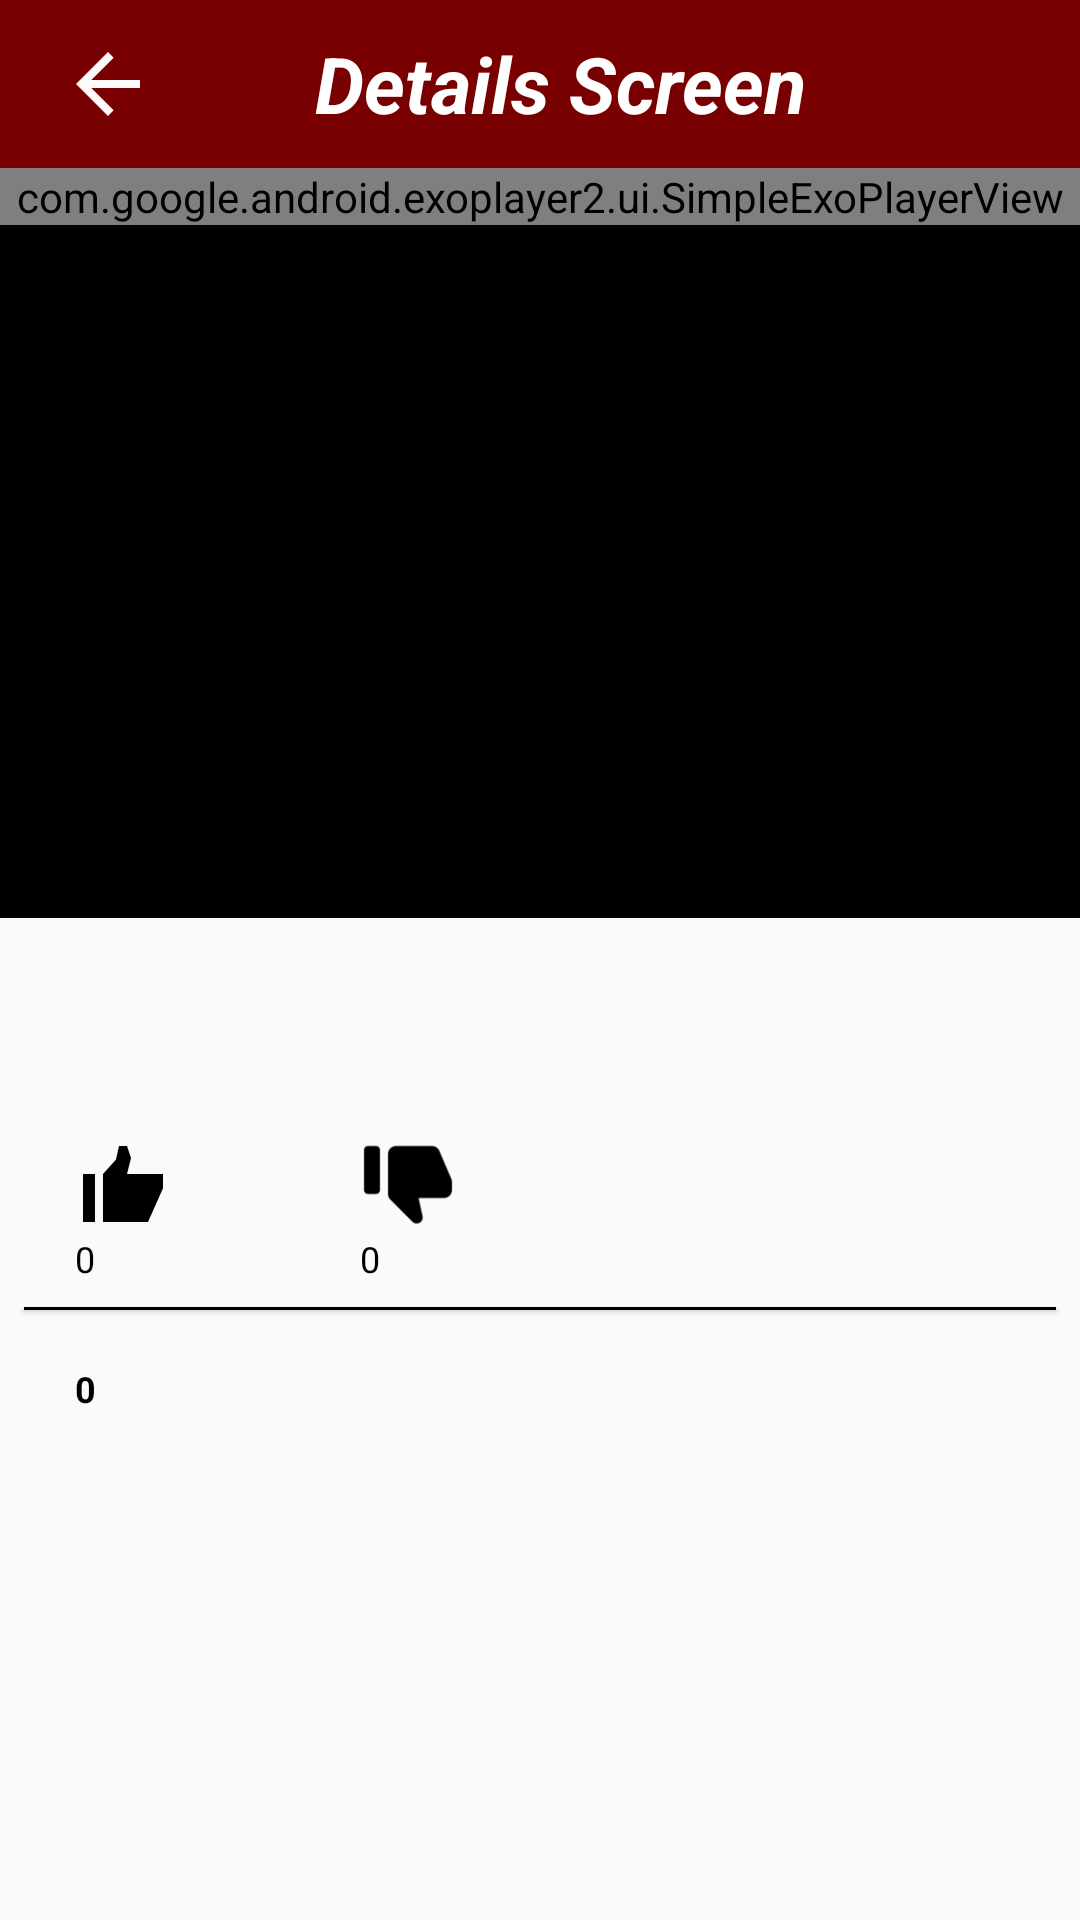

Icons on this 1080x1920 Android screen, each with the point to tap as (x=x, y=y):
arrow back: (x=108, y=84)
dis like: (x=408, y=1184)
like: (x=123, y=1184)
